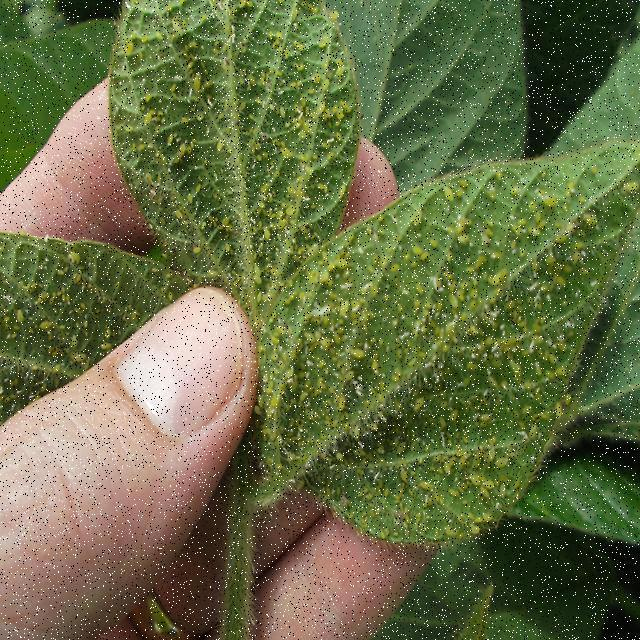Aphids: (274, 216, 309, 271), (72, 139, 106, 187), (56, 282, 81, 312)
